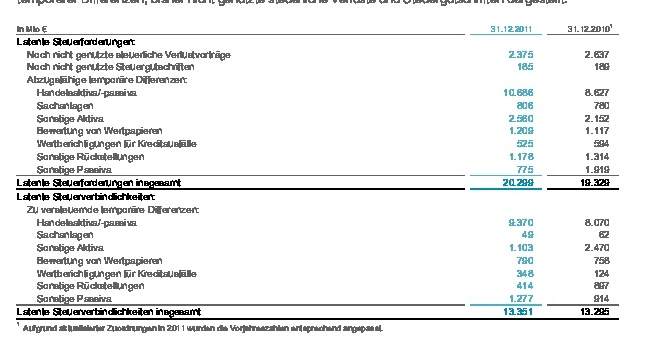table: (0, 0, 645, 341)
